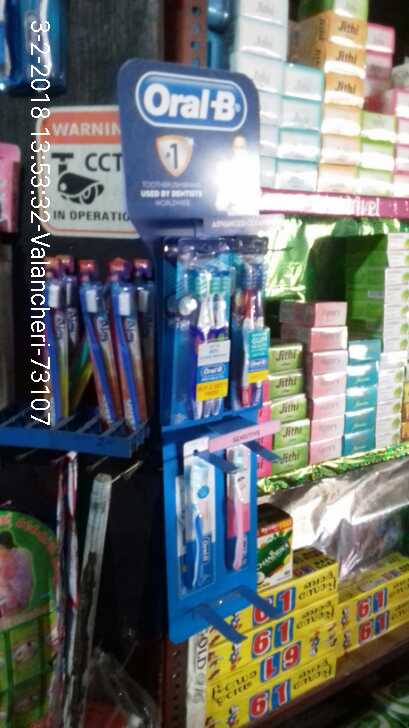oralb: (176, 252, 228, 422), (236, 246, 269, 412), (183, 449, 218, 589), (227, 444, 256, 577)
